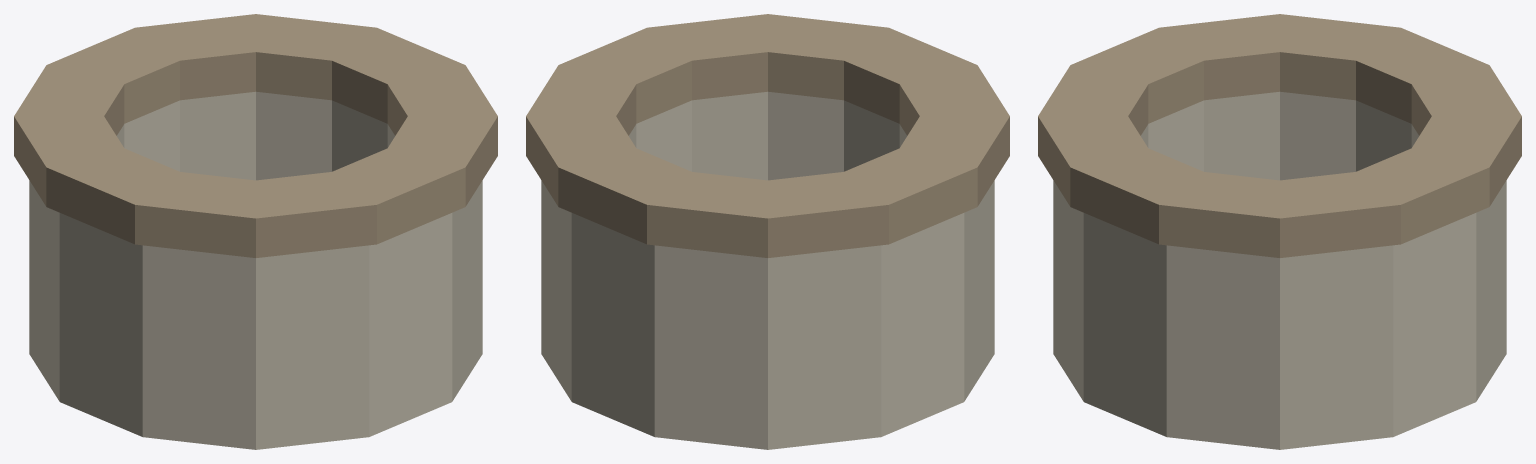
File: Well__Stone.fbx
3 renders of one model, left to right at view 1: azimuth 30°, elevation 25°; view 2: azimuth 150°, elevation 25°; view 3: azimuth 270°, elevation 25°, orthographic.
Parts seen in each view (by area): view 1: Well__Stone; view 2: Well__Stone; view 3: Well__Stone.
Part boxes in pixels (box(x1,y1,x2,y2)): Well__Stone: box(14, 14, 497, 449); Well__Stone: box(526, 14, 1009, 449); Well__Stone: box(1038, 14, 1521, 449).
Bounding box in the file's own units: 188 × 102 × 188.
Materials: 1 (1 with a texture image).
